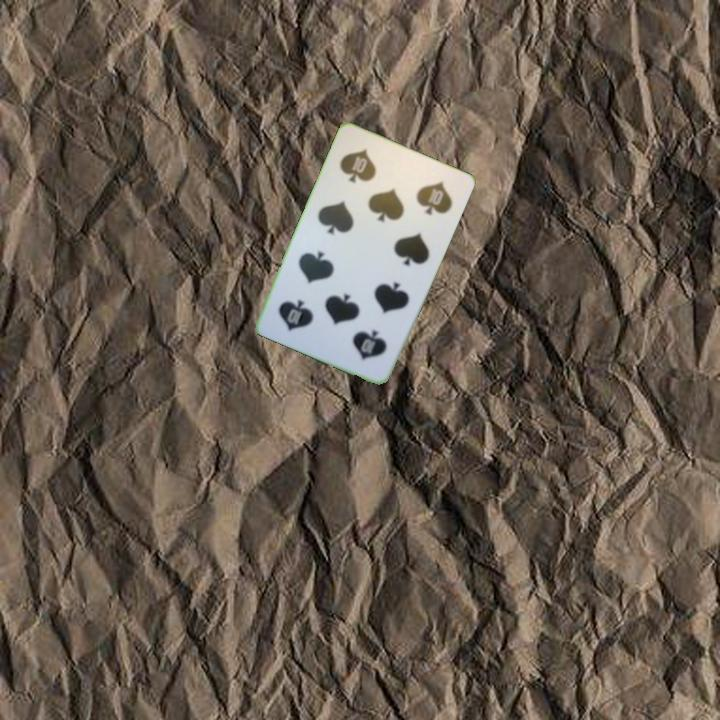s_10.png: (325, 132, 408, 210), (321, 298, 403, 375)
